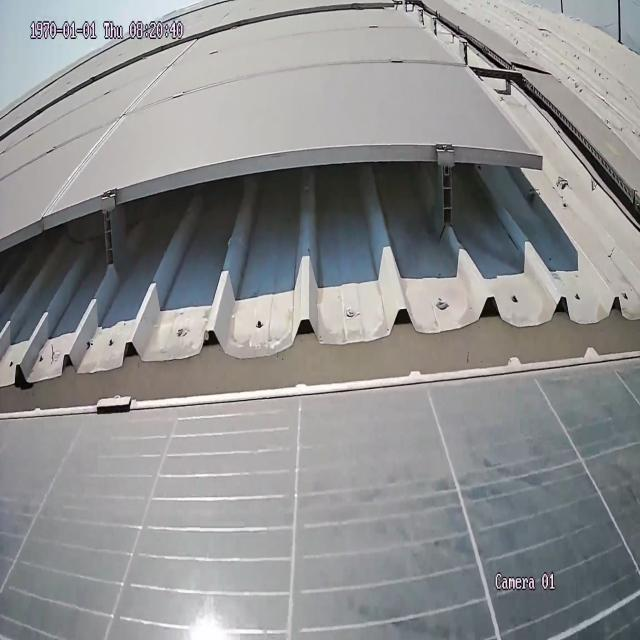interior panel: (45, 54, 176, 206)
outher panel: (0, 0, 640, 426)
